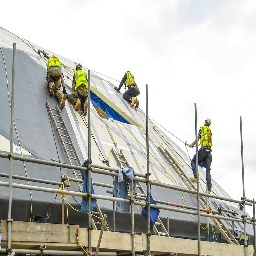person: (192, 116, 212, 193), (44, 48, 66, 116), (69, 60, 92, 116), (119, 65, 140, 106)
vest: (45, 56, 62, 80), (198, 124, 213, 151), (72, 68, 89, 89), (124, 71, 137, 93)
